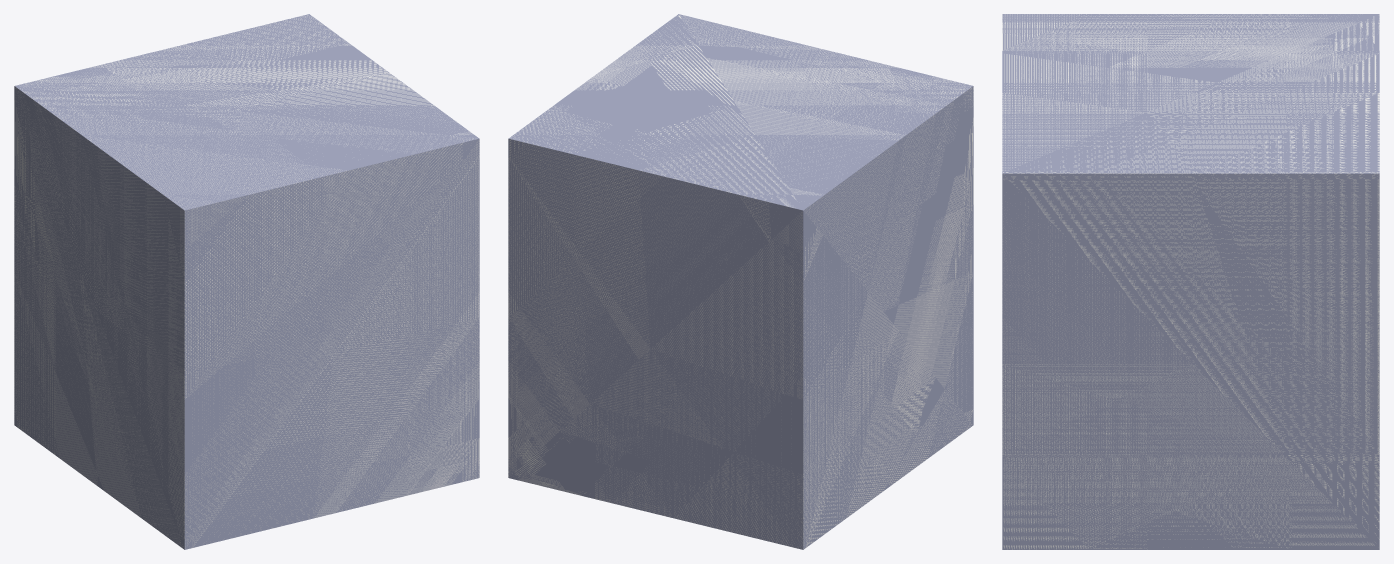
File: panelak.fbx
3 renders of one model, left to right at view 1: azimuth 30°, elevation 25°; view 2: azimuth 150°, elevation 25°; view 3: azimuth 270°, elevation 25°, orthographic. The views are drawn at different scales.
Visible parts, largest first — view 1: Model; view 2: Model; view 3: Model.
Boxes of the visible parts, x1,y1,x2,y2 form: Model: (14, 14, 479, 549); Model: (508, 14, 973, 549); Model: (1002, 14, 1379, 549).
Bounding box in the file's own units: 15 × 16.5 × 15.
